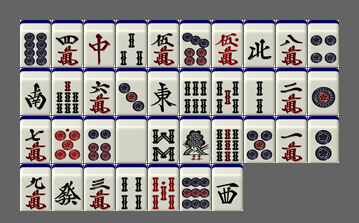0m: (212, 20, 243, 67)
0p: (52, 116, 83, 163)
0s: (148, 164, 179, 211)
1m: (276, 116, 307, 163)
1p: (308, 68, 339, 115)
1s: (180, 116, 211, 163)
1z: (148, 68, 179, 115)
2m: (276, 68, 307, 115)
2p: (308, 116, 339, 163)
2s: (244, 68, 275, 115)
2z: (20, 68, 51, 115)
3m: (84, 164, 115, 211)
3p: (116, 68, 147, 115)
3s: (116, 20, 147, 67)
3z: (212, 164, 243, 211)
4m: (52, 20, 83, 67)
4p: (308, 20, 339, 67)
4s: (116, 164, 147, 211)
4z: (244, 20, 275, 67)
5m: (148, 20, 179, 67)
5p: (244, 116, 275, 163)
5s: (212, 68, 243, 115)
5z: (116, 116, 147, 163)
6m: (84, 68, 115, 115)
6p: (84, 116, 115, 163)
6s: (180, 68, 211, 115)
6z: (52, 164, 83, 211)
7m: (20, 116, 51, 163)
7p: (180, 20, 211, 67)
7s: (52, 68, 83, 115)
7z: (84, 20, 115, 67)
8m: (276, 20, 307, 67)
8p: (20, 20, 51, 67)
8s: (148, 116, 179, 163)
9m: (20, 164, 51, 211)
9p: (180, 164, 211, 211)
9s: (212, 116, 243, 163)
